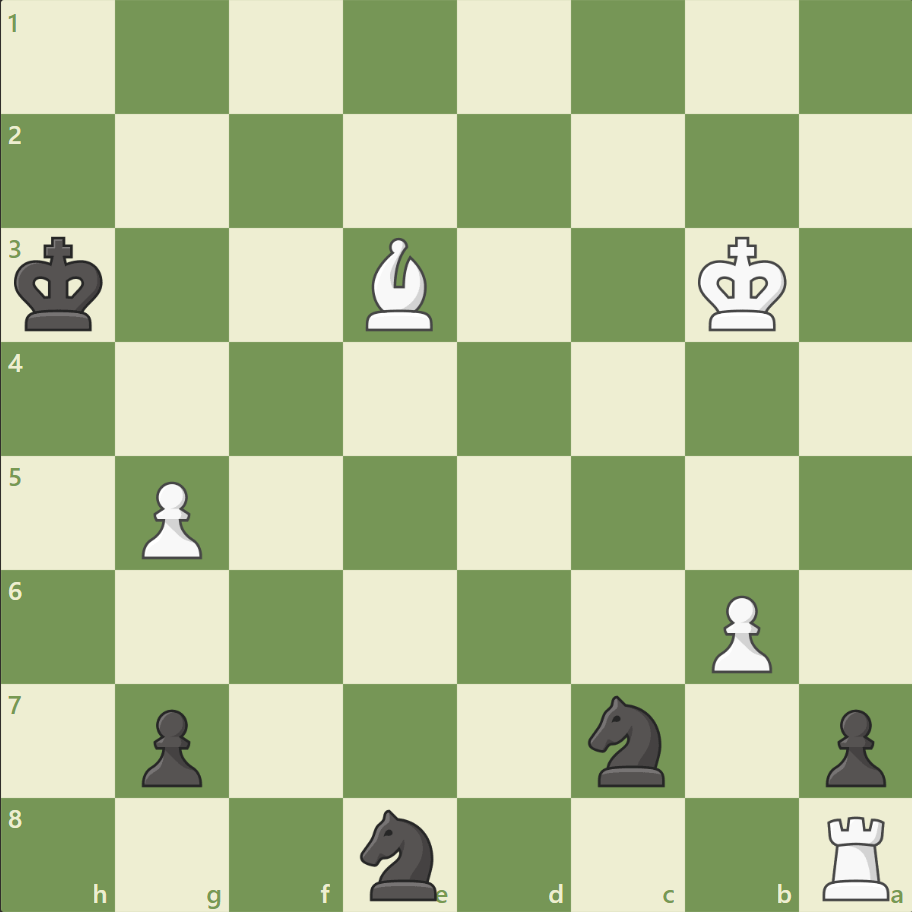B: (358, 233, 442, 336)
K: (692, 231, 792, 339)
P: (701, 586, 776, 677), (133, 473, 208, 564)
R: (814, 806, 897, 904)
k: (11, 231, 111, 339)
n: (351, 802, 449, 904), (579, 688, 676, 791)
p: (133, 700, 208, 791), (815, 700, 889, 791)
